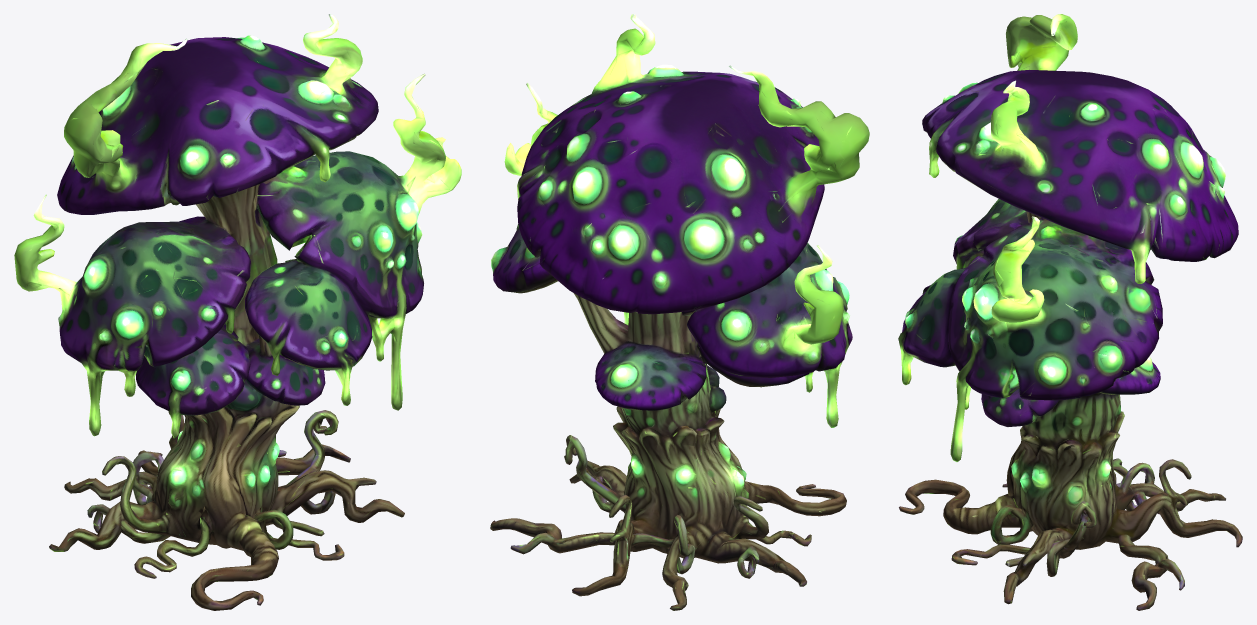
The model's file is sporecloud_meshy_v01_prepared.fbx.
3 views of the same model, side by side, from view 1: azimuth 30°, elevation 25°; view 2: azimuth 150°, elevation 25°; view 3: azimuth 270°, elevation 25° (orthographic). The views are drawn at different scales.
Parts seen in each view (by area): view 1: Mesh1.0; view 2: Mesh1.0; view 3: Mesh1.0.
Part boxes in pixels (x1=…): Mesh1.0: x1=14, y1=14, x2=461, y2=610; Mesh1.0: x1=490, y1=14, x2=869, y2=610; Mesh1.0: x1=898, y1=14, x2=1242, y2=610.
Bounding box in the file's own units: 99.56 × 125 × 79.46.
